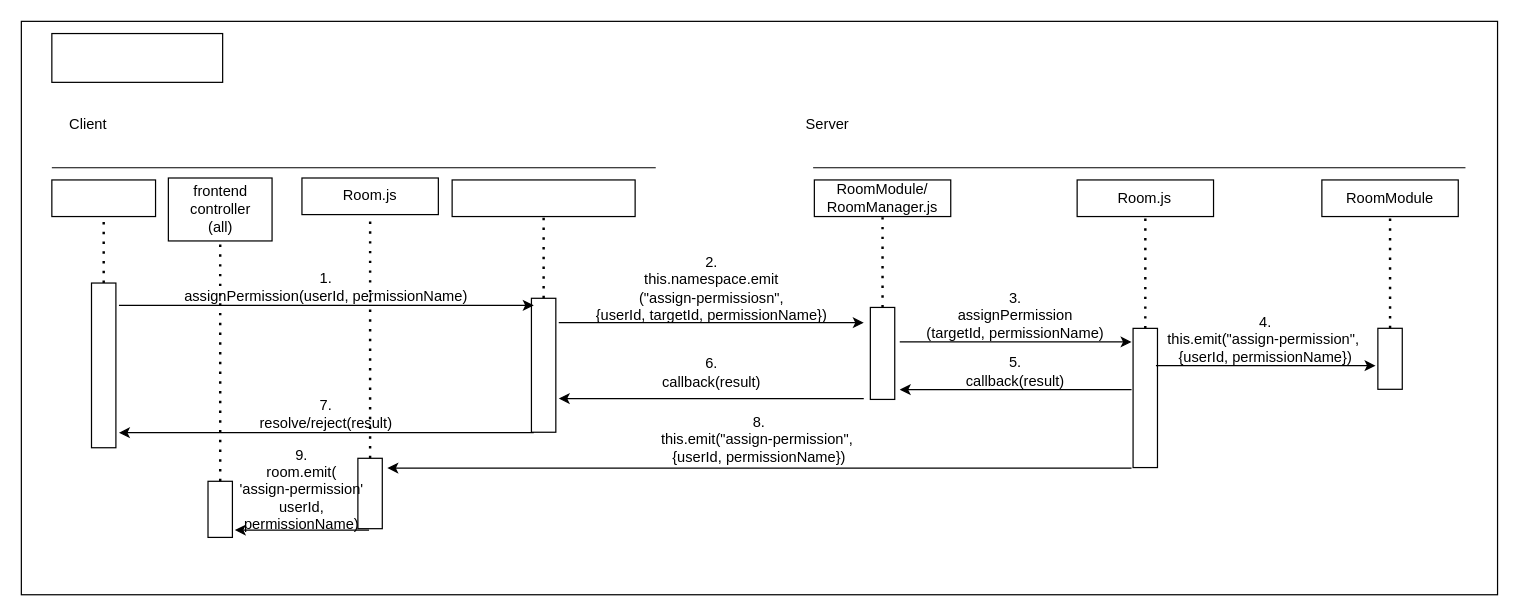
Image size: 1519x616. Some labels were removed from this diagram. The shapes that lost their labels are listed below. From the top down, each one's centre as x and y in pixels, then its label:
At (x=137, y=57): "RoomManager : Assign Permission".
At (x=103, y=198): "frontend UI (teacher)".
At (x=543, y=198): "RoomModule/ RoomManagerClient".
